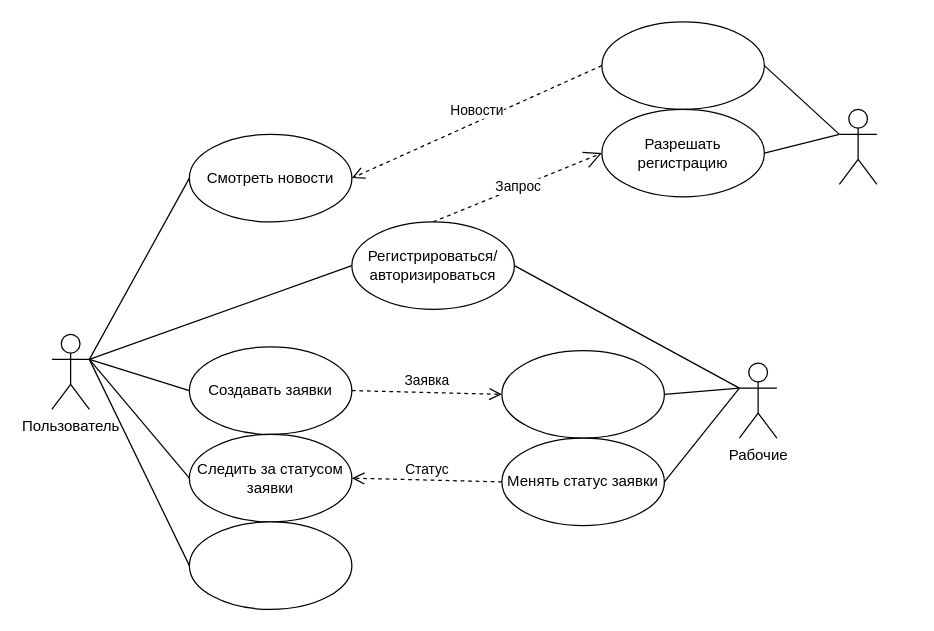
Some shapes in this 934 by 631 pixel diagram are drawn without their labels. Each missing label, with the centre of its shape:
Администратор: the point at 857,146
Получать уведомления: the point at 270,565
Просматривать заявки: the point at 582,393
Создавать новости: the point at 682,65
